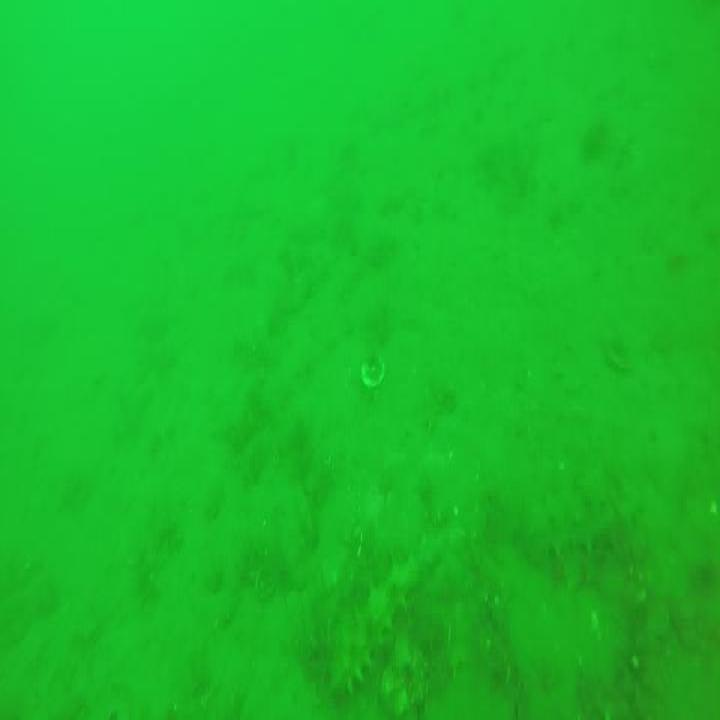holothurian: (323, 528, 450, 697), (524, 496, 647, 556)
scallop: (361, 350, 385, 388)
